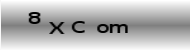8: (27, 11, 41, 25)
C: (70, 19, 86, 34)
X: (46, 21, 66, 35)
m: (108, 23, 130, 34)
o: (95, 23, 109, 33)
